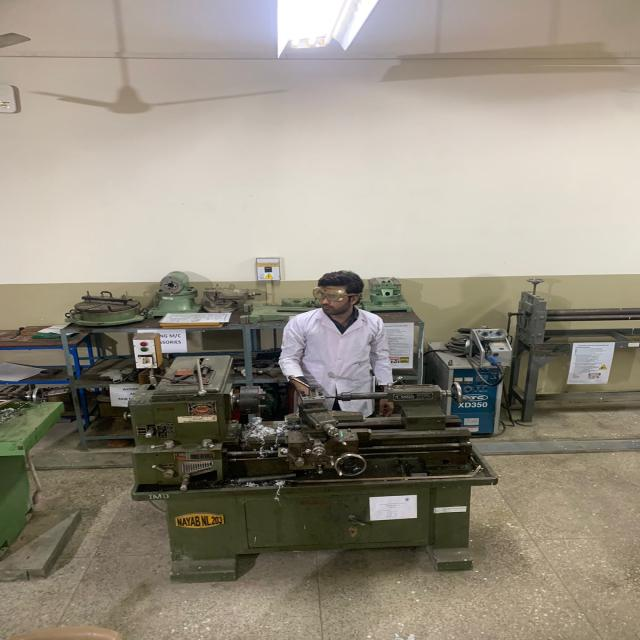googles: (310, 286, 349, 303)
labcoat: (279, 305, 395, 420)
